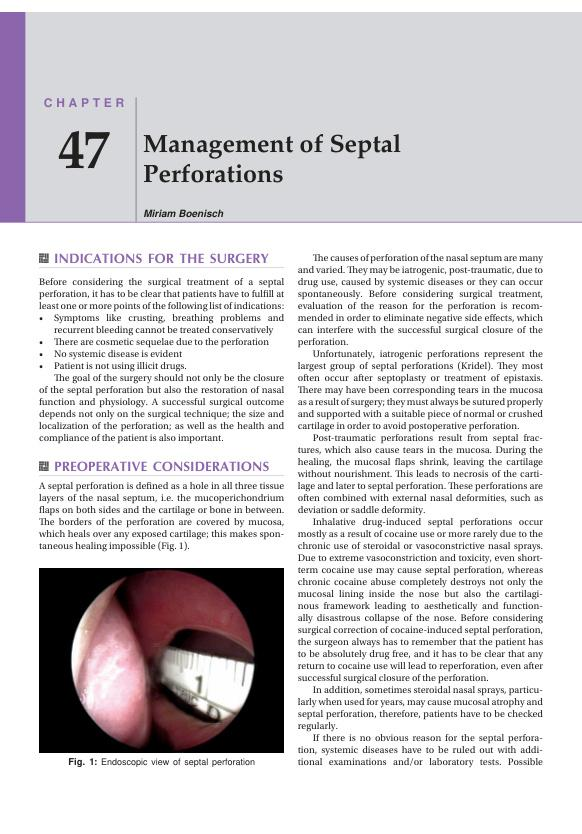caption: (67, 756, 257, 768)
chapter-heading: (141, 131, 403, 185)
image: (38, 568, 284, 754)
section-heading: (53, 252, 270, 265), (53, 460, 271, 472)
text: (296, 251, 545, 768), (36, 275, 285, 446), (36, 480, 286, 554)
